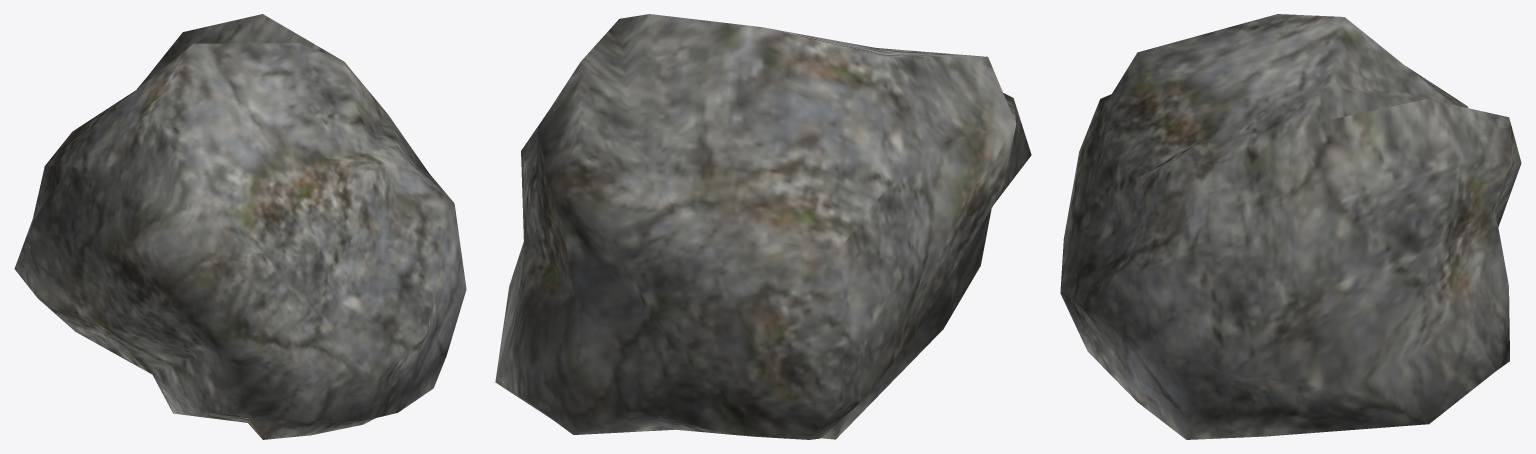
File: Boulder_03.FBX
The picture shows the model from 3 angles, left to right: view 1: azimuth 30°, elevation 25°; view 2: azimuth 150°, elevation 25°; view 3: azimuth 270°, elevation 25°; orthographic projection. The views are drawn at different scales.
Parts seen in each view (by area): view 1: Boulder_03; view 2: Boulder_03; view 3: Boulder_03.
Boxes of the visible parts, x1=… form: Boulder_03: x1=14, y1=14, x2=466, y2=439; Boulder_03: x1=495, y1=14, x2=1031, y2=439; Boulder_03: x1=1060, y1=14, x2=1521, y2=439.
Size of the model in its own units: 40.81 by 39.01 by 45.66.
